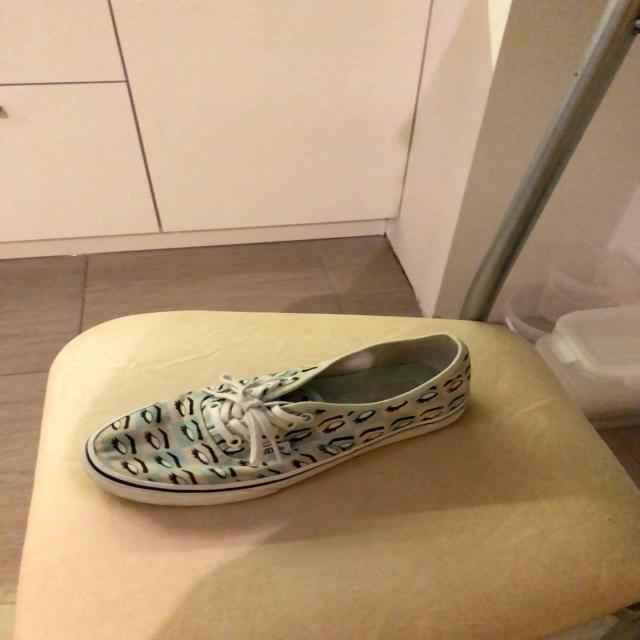shoe: (84, 338, 471, 500)
